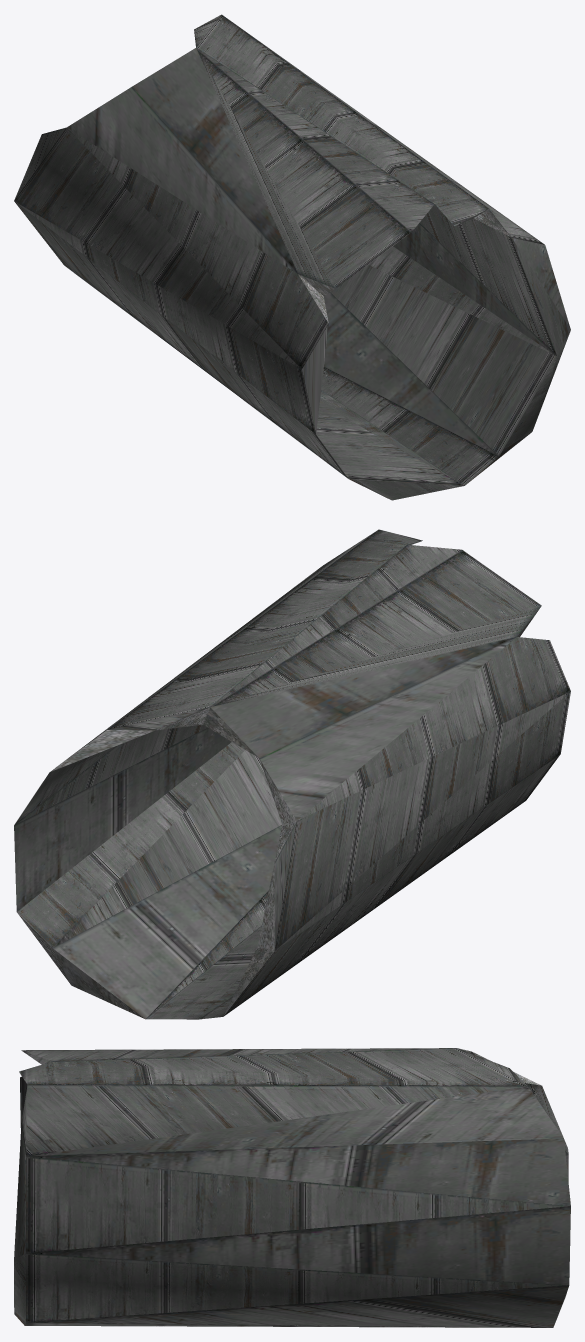
Rendered from Prop_Wj006_lod2.glb.
The picture shows the model from 3 angles, top to bottom: view 1: azimuth 30°, elevation 25°; view 2: azimuth 150°, elevation 25°; view 3: azimuth 270°, elevation 25°; orthographic projection. The views are drawn at different scales.
Visible parts, largest first — view 1: xiutz_wj006_lod2_lod2; view 2: xiutz_wj006_lod2_lod2; view 3: xiutz_wj006_lod2_lod2.
Boxes of the visible parts, <box> form: xiutz_wj006_lod2_lod2: <box>14,14,570,500</box>; xiutz_wj006_lod2_lod2: <box>14,529,570,1019</box>; xiutz_wj006_lod2_lod2: <box>14,1048,570,1327</box>.
Bounding box in the file's own units: 68.7 × 67.9 × 132.
1 material, 1 textured.
